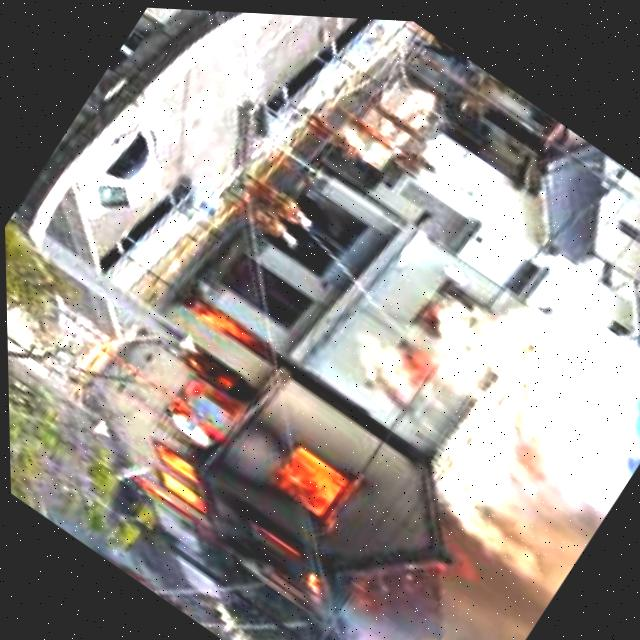Fire: (77, 267, 423, 610)
Smoke: (323, 274, 640, 640)
